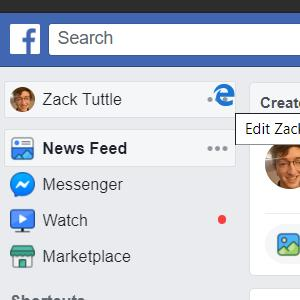edge: (213, 84, 235, 107)
